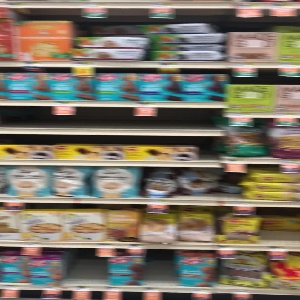void: (1, 105, 220, 131), (62, 248, 109, 287), (261, 206, 300, 244), (146, 247, 177, 286), (199, 136, 223, 161)
